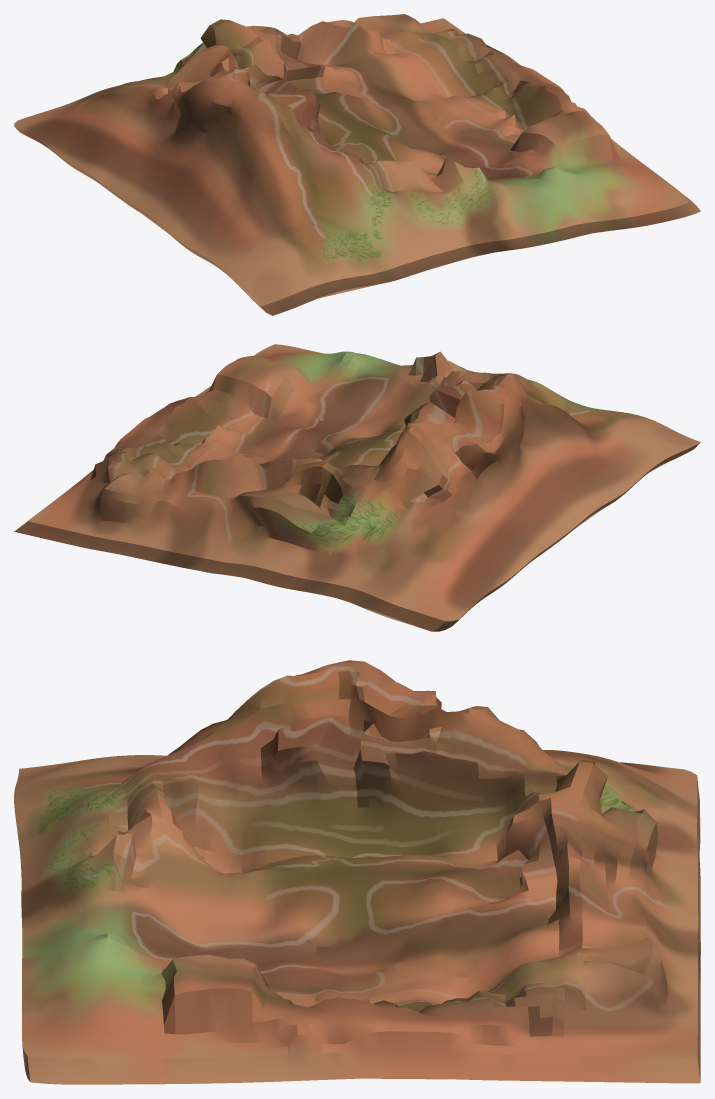
File: landscape.glb
3 renders of one model, top to bottom at view 1: azimuth 30°, elevation 25°; view 2: azimuth 150°, elevation 25°; view 3: azimuth 270°, elevation 25°, orthographic. The views are drawn at different scales.
Parts seen in each view (by area): view 1: Plan; view 2: Plan; view 3: Plan.
Boxes of the visible parts, x1,y1,x2,y2 form: Plan: (14, 14, 700, 315); Plan: (14, 344, 700, 631); Plan: (14, 660, 700, 1084).
Bounding box in the file's own units: 460 × 134 × 452.
1 material, 1 textured.
